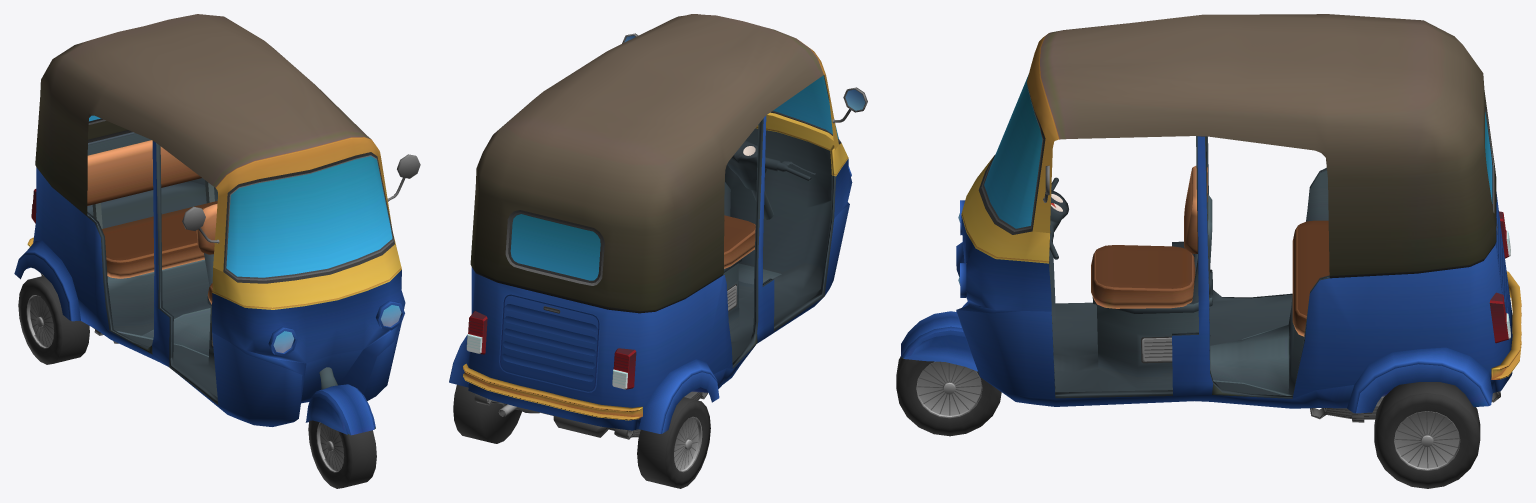
File: keke-3.glb
The picture shows the model from 3 angles, left to right: view 1: azimuth 30°, elevation 25°; view 2: azimuth 150°, elevation 25°; view 3: azimuth 270°, elevation 25°; orthographic projection. The views are drawn at different scales.
Parts seen in each view (by area): view 1: tuktuk, Cylinder.002, Cylinder; view 2: tuktuk, Cylinder.002, Cylinder.003; view 3: tuktuk, Cylinder.002, Cylinder, Cylinder.003.
Part boxes in pixels (x1,y1,x2,y2): tuktuk: (14, 14, 420, 435); Cylinder.002: (18, 276, 89, 364); Cylinder: (308, 420, 376, 488); tuktuk: (449, 14, 867, 439); Cylinder.002: (453, 384, 710, 488); Cylinder.003: (727, 140, 815, 219); tuktuk: (901, 14, 1521, 422); Cylinder.002: (1374, 382, 1480, 488); Cylinder: (896, 356, 1001, 436); Cylinder.003: (1049, 177, 1068, 259).
Bounding box in the file's own units: 1.4 × 1.8 × 2.66.
Materials: 1 (1 with a texture image).
